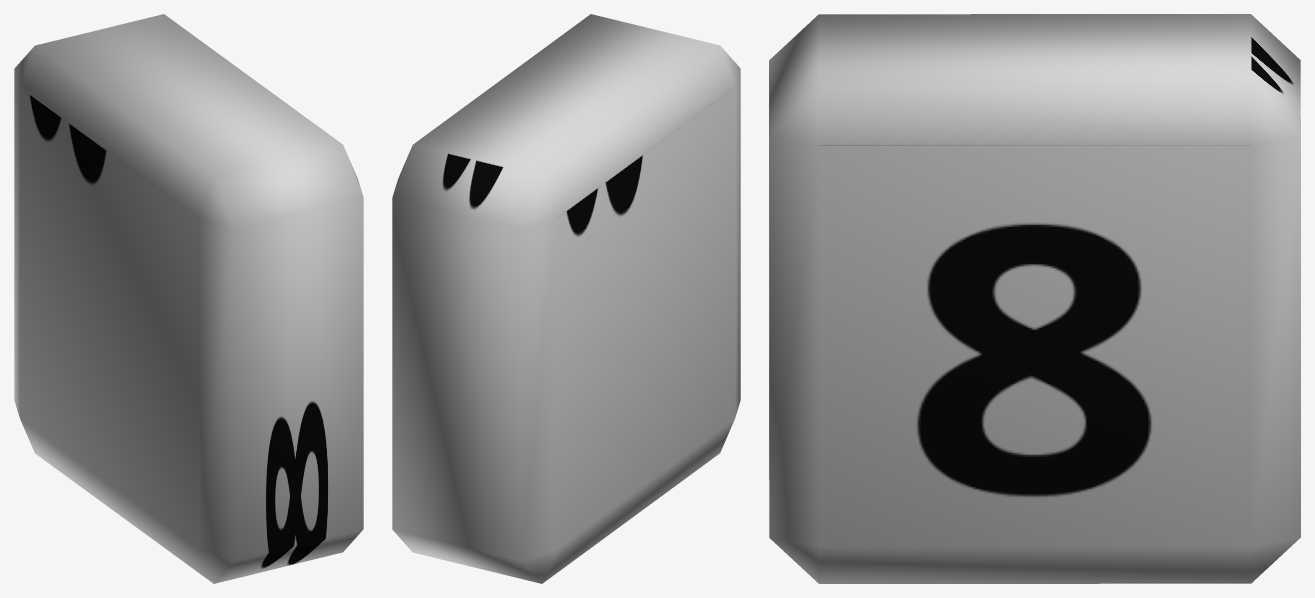
Rendered from Boton8.fbx.
3 views of the same model, side by side, from view 1: azimuth 30°, elevation 25°; view 2: azimuth 150°, elevation 25°; view 3: azimuth 270°, elevation 25° (orthographic). The views are drawn at different scales.
Visible parts, largest first — view 1: Boton8; view 2: Boton8; view 3: Boton8.
Part boxes in pixels (x1,y1,x2,y2): Boton8: (14, 14, 363, 583); Boton8: (392, 14, 740, 583); Boton8: (769, 14, 1300, 583).
Bounding box in the file's own units: 1.36 × 3.32 × 3.25.
